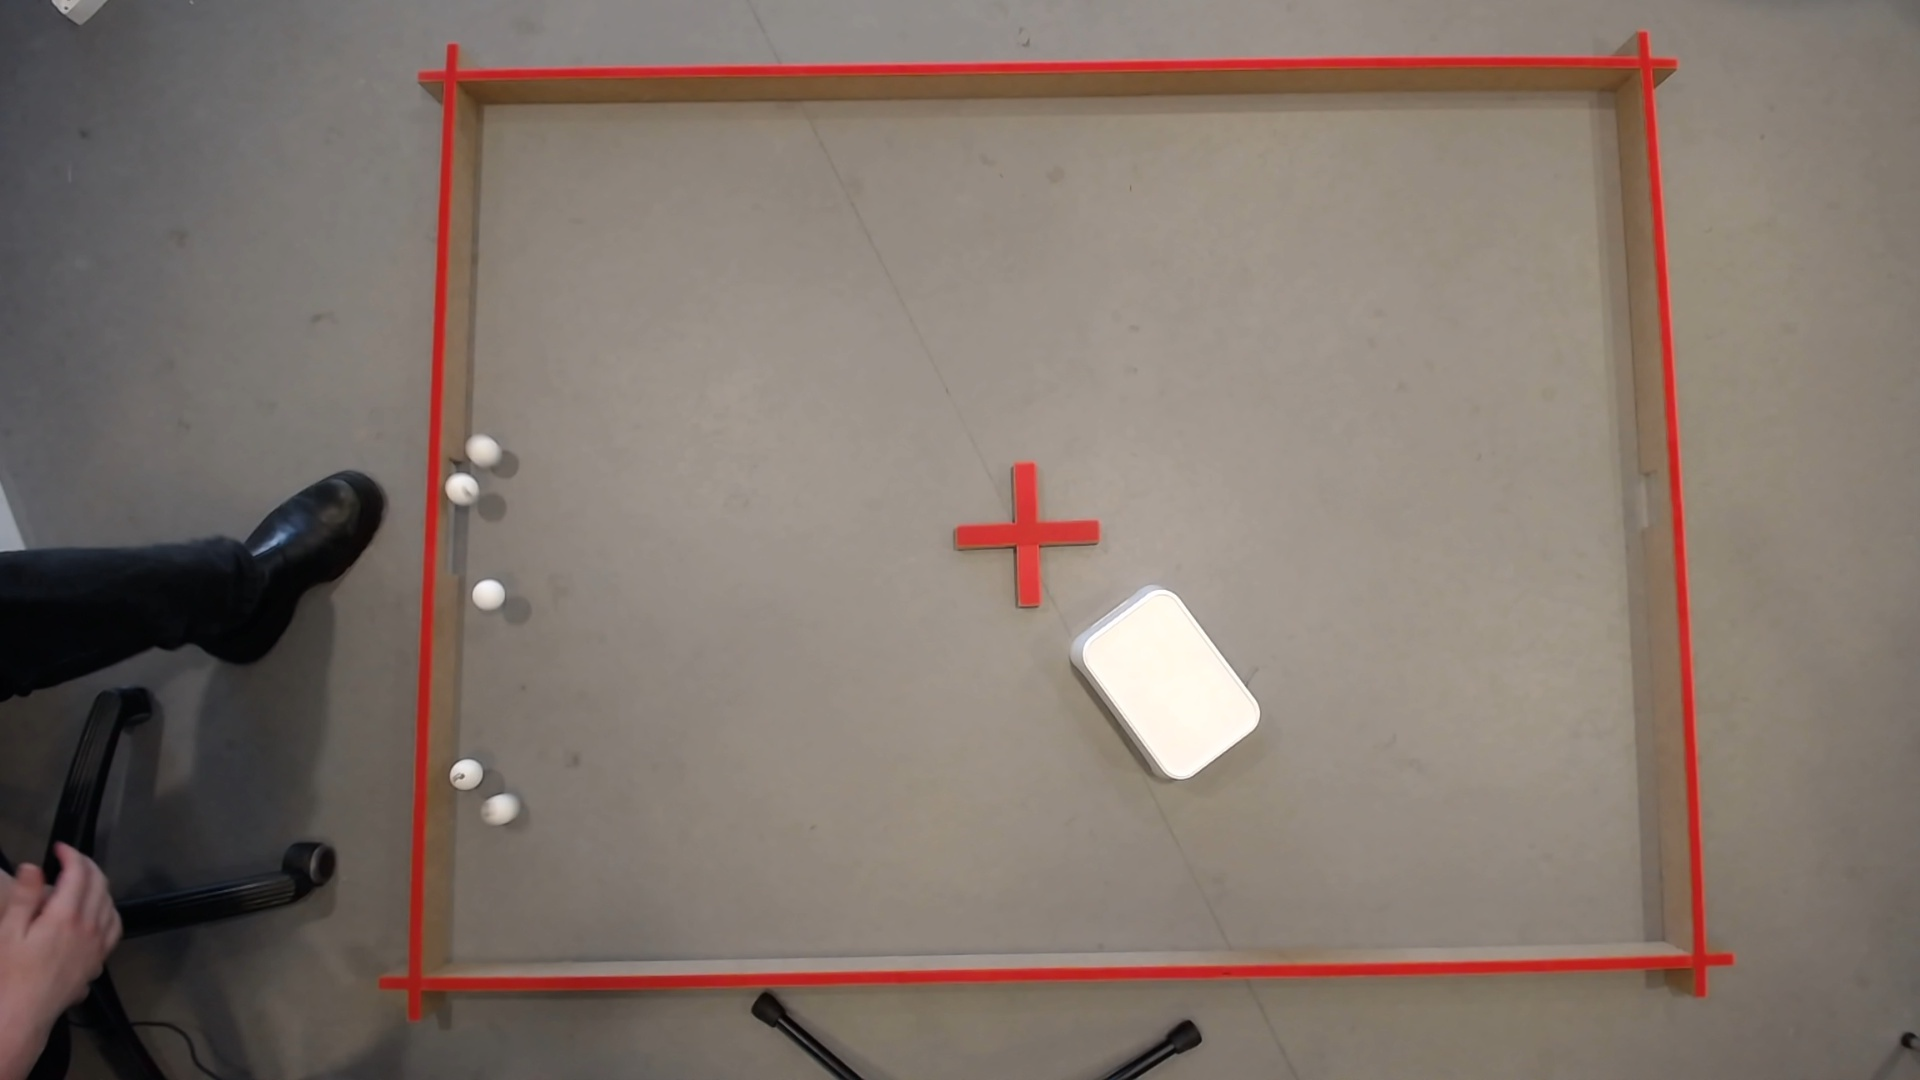balls: (1067, 572, 1269, 787), (440, 467, 480, 506), (467, 574, 506, 612), (447, 753, 483, 787), (464, 431, 498, 465)
car: (485, 790, 516, 820)
